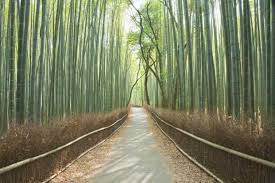bamboo: (145, 5, 271, 113), (8, 2, 128, 102)
